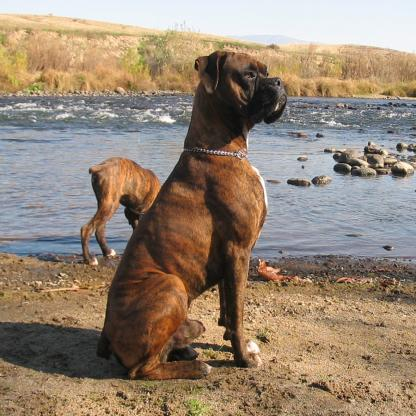Boxer: (97, 47, 289, 370)
